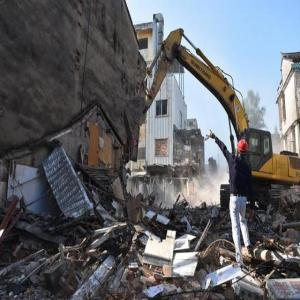red: (237, 140, 249, 159)
